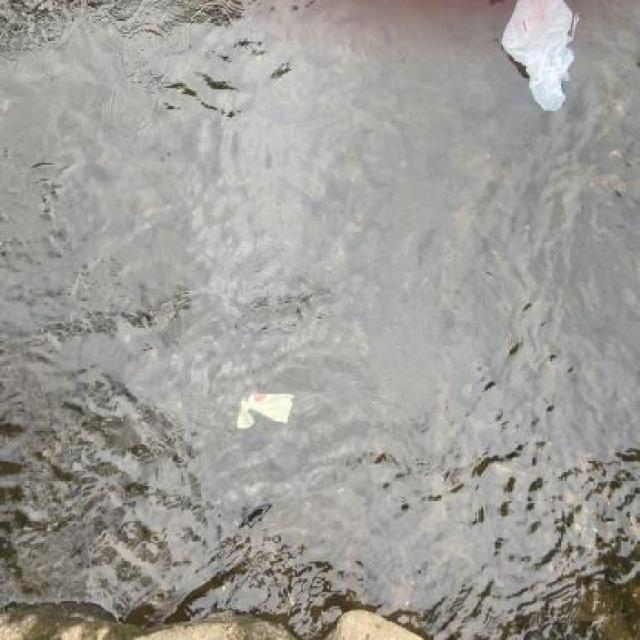Plastic: (497, 0, 588, 129), (222, 381, 304, 445)
